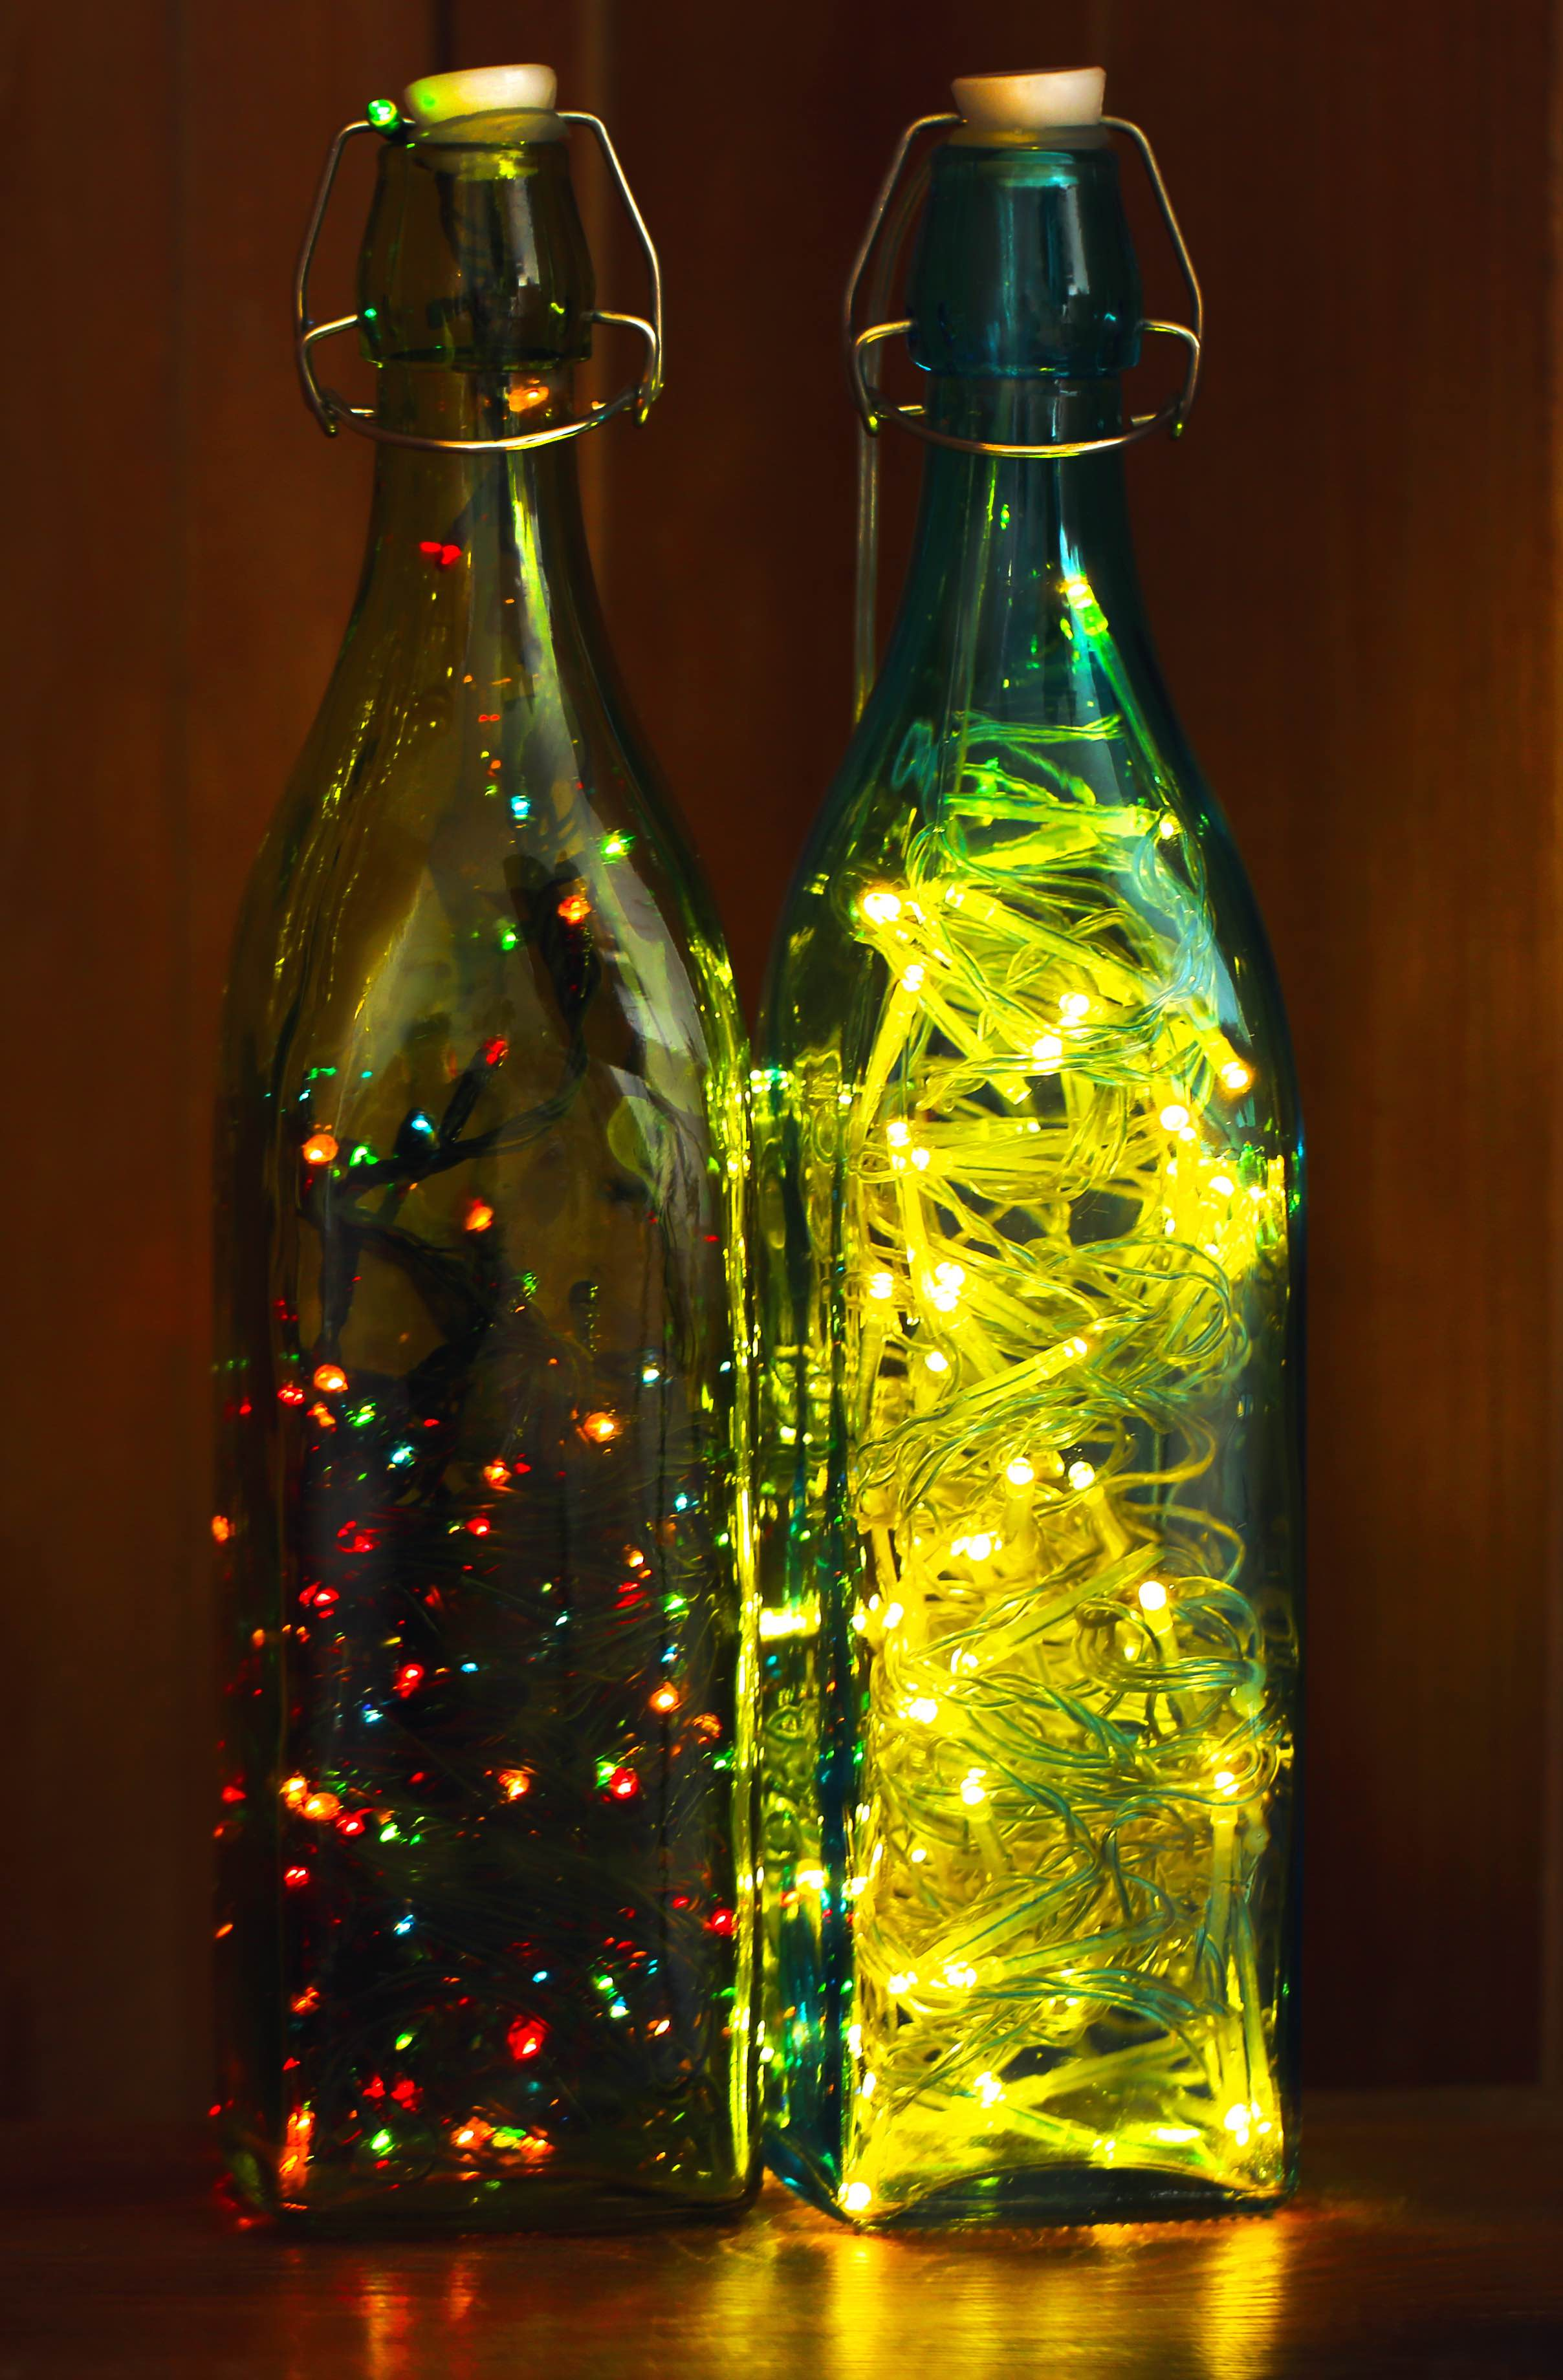glass_bottle: (195, 51, 766, 2254), (755, 38, 1322, 2247)
